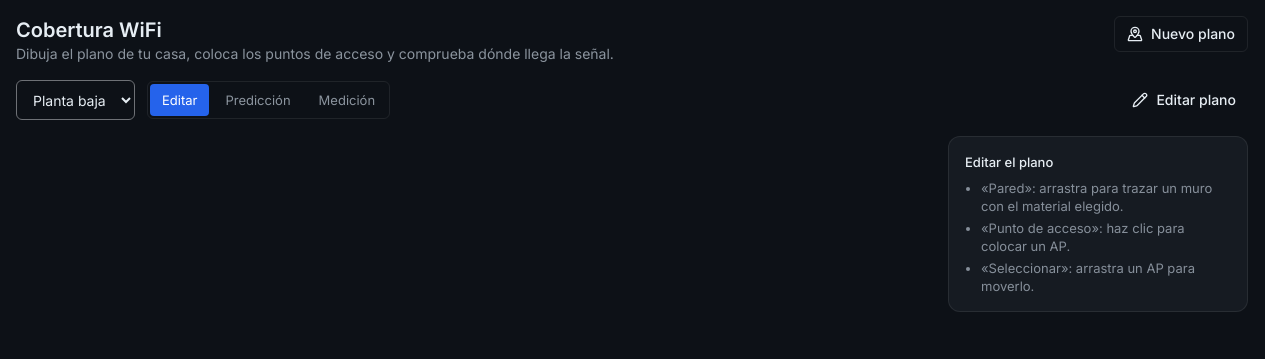
Test case: CoveragePage › con recorrido, dice que el modelo está ajustado a esta casa
Step 1. Click the button "Predicción" → (258, 100), box [213,84,303,116]
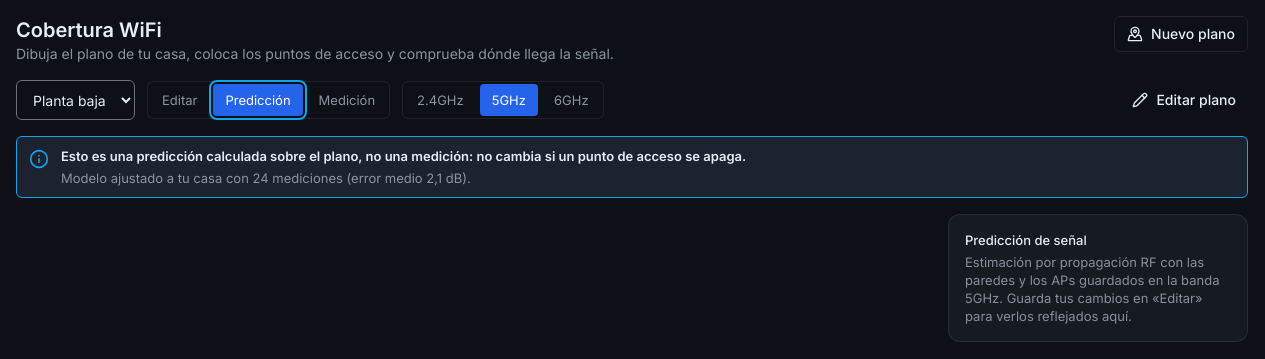
Check: the text "ajustado a tu casa con 24 mediciones" is shown, box [61,170,471,186]
